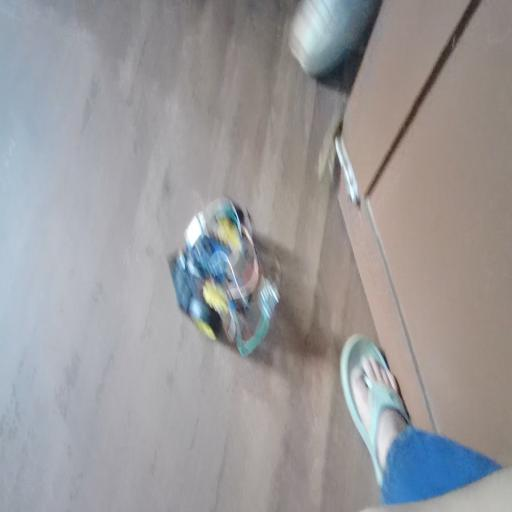car: (173, 138, 293, 374)
